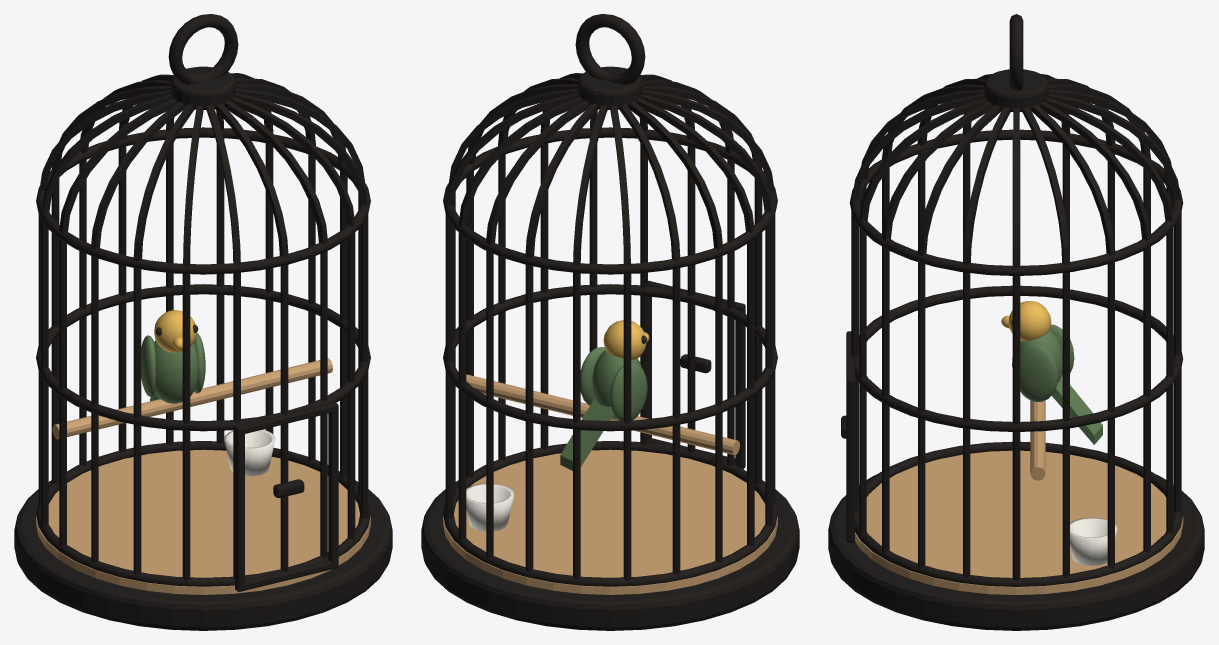
File: hh_cat_bird_cage.glb
3 views of the same model, side by side, from view 1: azimuth 30°, elevation 25°; view 2: azimuth 150°, elevation 25°; view 3: azimuth 270°, elevation 25° (orthographic).
Visible parts, largest first — view 1: floor, base, hoop.001, hoop.002, hoop, perch, dome_bar.008, dome_bar.009, bar.013, bar.012, dome_bar.007, bar.017 (+34 smaller); view 2: floor, base, hoop.001, hoop.002, hoop, dome_bar.002, dome_bar.001, perch, bar.007, bar.008, bar.005, dome_bar.003 (+33 smaller); view 3: floor, base, hoop.001, hoop.002, hoop, dome_bar.005, dome_bar.004, dome_bar.006, bar, dome_bar.003, dome_bar.007, bar.001 (+25 smaller).
Part boxes in pixels (x1,y1,x2,y2): floor: (36,449,370,594); base: (14,480,392,630); hoop.001: (36,284,370,431); hoop.002: (36,127,370,274); hoop: (36,441,370,586); perch: (52,358,332,439); dome_bar.008: (39,90,367,205); dome_bar.009: (41,88,365,212); bar.013: (182,273,190,580); bar.012: (133,267,141,575); dome_bar.007: (51,86,355,226); bar.017: (347,232,355,539); floor: (443,449,777,594); base: (421,480,799,630); hoop.001: (443,284,777,431); hoop.002: (443,127,777,274); hoop: (443,441,777,586); dome_bar.002: (446,90,774,205); dome_bar.001: (448,88,772,212); perch: (466,374,739,455); bar.007: (623,273,631,580); bar.008: (672,267,680,575); bar.005: (525,265,533,571); dome_bar.003: (458,86,762,226); floor: (855,450,1183,594); base: (828,475,1204,630); hoop.001: (852,285,1183,431); hoop.002: (849,129,1183,275); hoop: (855,441,1183,586); dome_bar.005: (852,93,1180,200); dome_bar.004: (861,89,1173,221); dome_bar.006: (859,89,1171,221); bar: (1012,276,1020,580); dome_bar.003: (882,84,1150,240); dome_bar.007: (882,84,1150,240); bar.001: (1062,272,1069,577).
Bounding box in the file's own units: 0.35 × 0.55 × 0.35.
